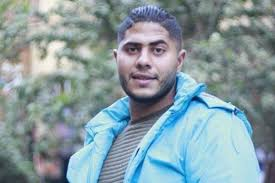middle_eastern_male: (120, 10, 180, 106)
